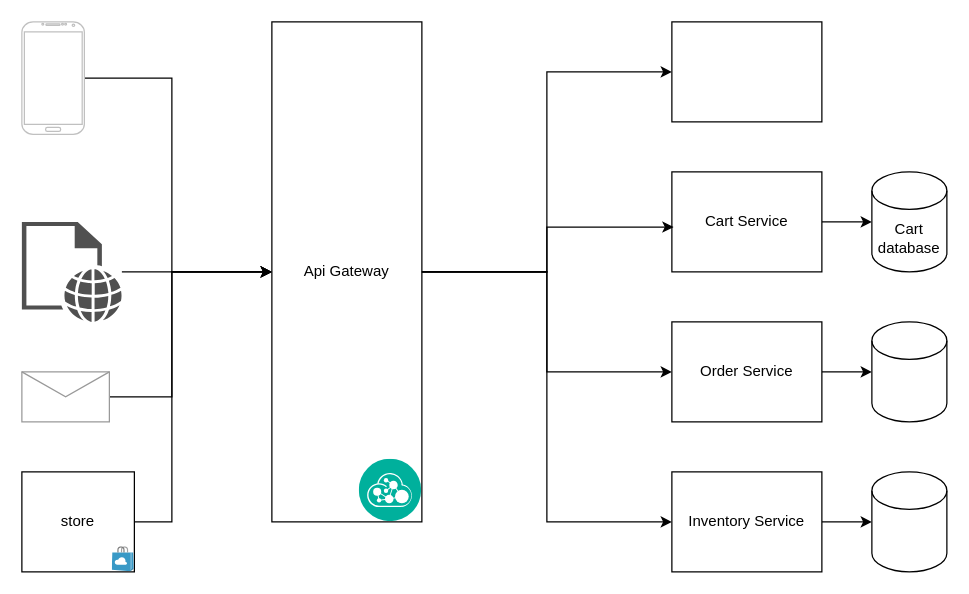
Some shapes in this 969 by 594 pixel diagram are drawn without their labels. Here are the shapes that lost their labels. From the top down, the box of each, then its label:
(671, 21, 822, 122): Search Service
(871, 321, 947, 422): Order Database
(871, 471, 947, 572): Inventory Database
